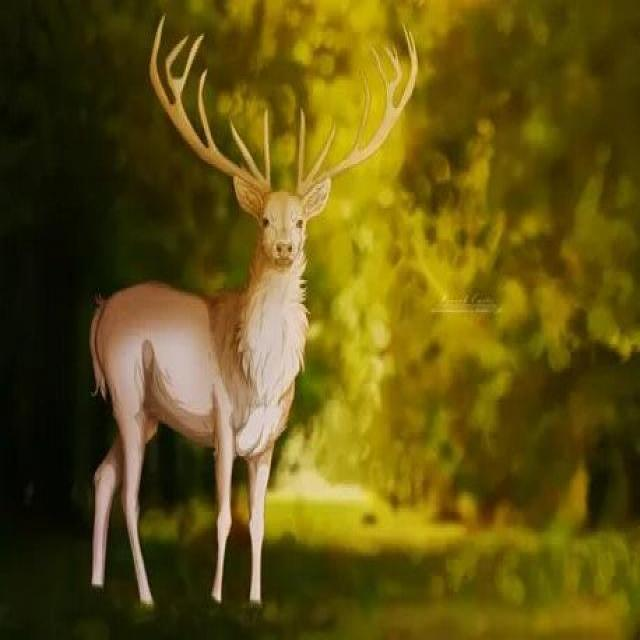deer: (43, 0, 474, 640)
